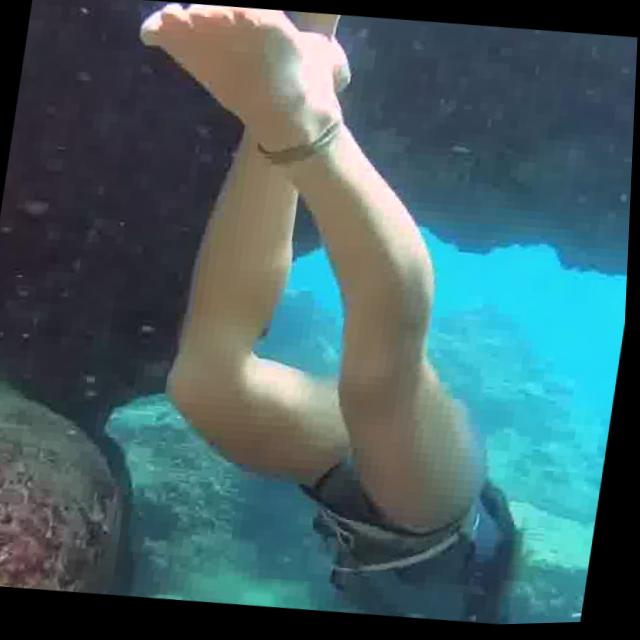human: (55, 0, 615, 638)
